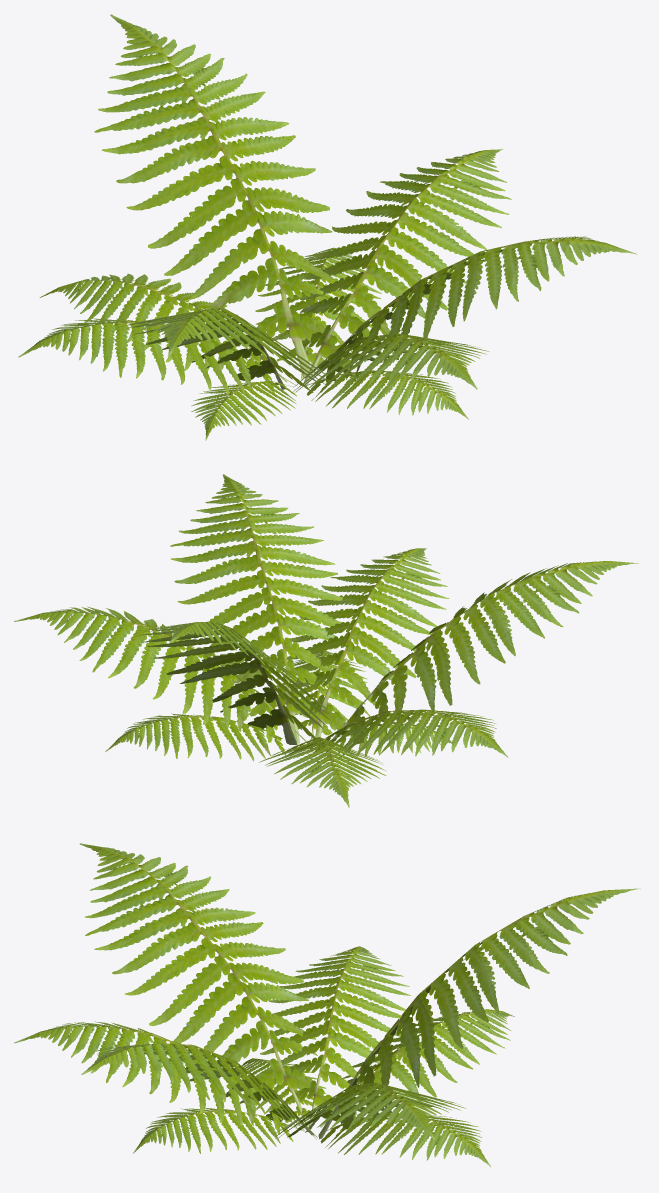
The model's file is s_fern.glb.
3 renders of one model, top to bottom at view 1: azimuth 30°, elevation 25°; view 2: azimuth 150°, elevation 25°; view 3: azimuth 270°, elevation 25°, orthographic. The views are drawn at different scales.
Bounding box in the file's own units: 2.17 × 0.9346 × 2.26.
Materials: 1 (1 with a texture image).
